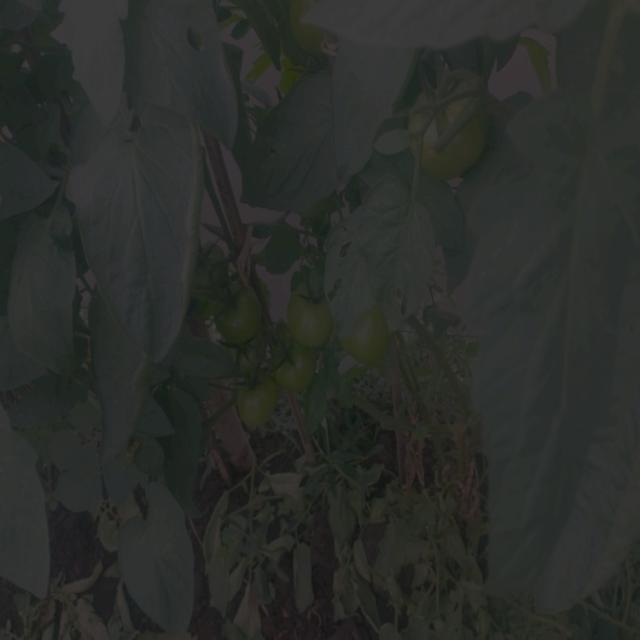tomato: (396, 94, 485, 175), (207, 280, 267, 342), (284, 283, 329, 352), (238, 374, 281, 433), (344, 312, 392, 363), (231, 338, 268, 376), (201, 241, 230, 289), (281, 353, 313, 390)
